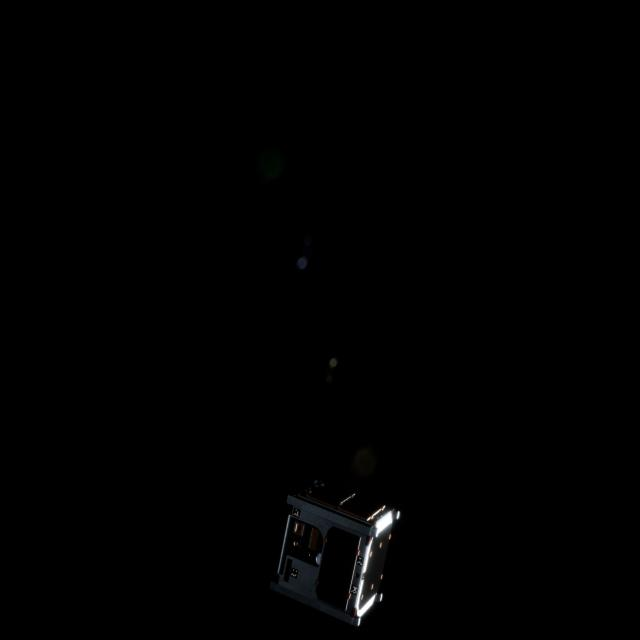medium_debris: (268, 474, 403, 626)
